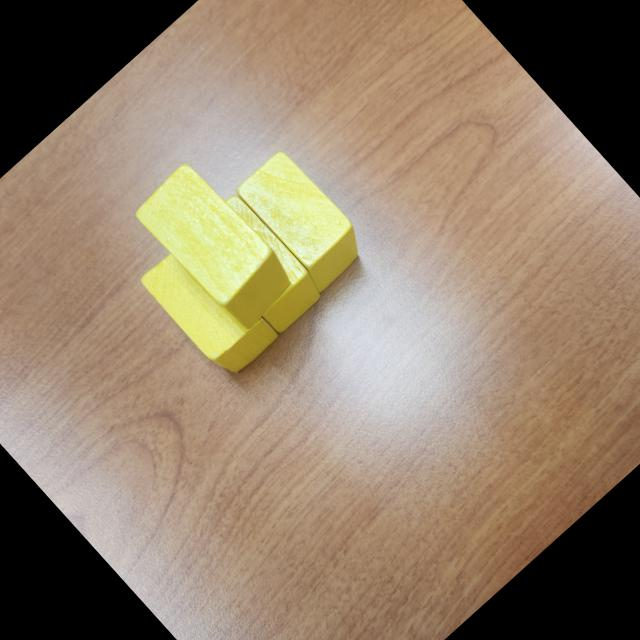yellow: (130, 157, 302, 336), (229, 144, 374, 294), (138, 234, 282, 382), (187, 190, 329, 338)
